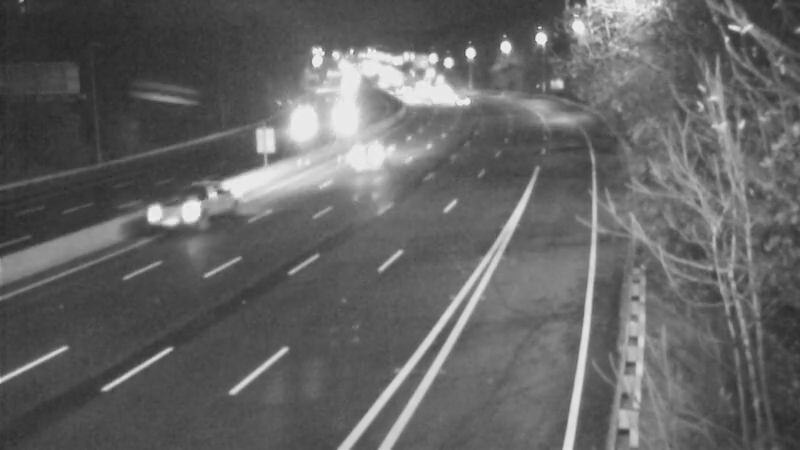vehicle: (327, 120, 407, 200), (143, 170, 223, 250), (386, 68, 436, 118), (432, 78, 482, 128), (406, 79, 456, 129), (281, 95, 331, 145), (325, 91, 375, 141)
